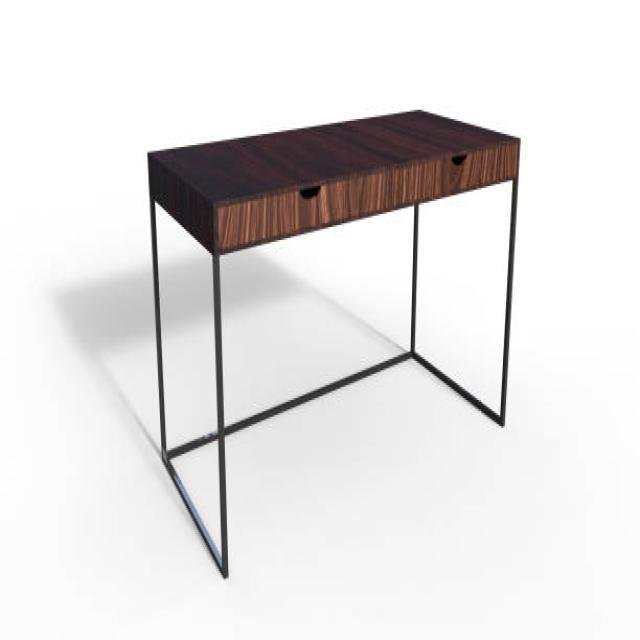table: (146, 106, 521, 577)
